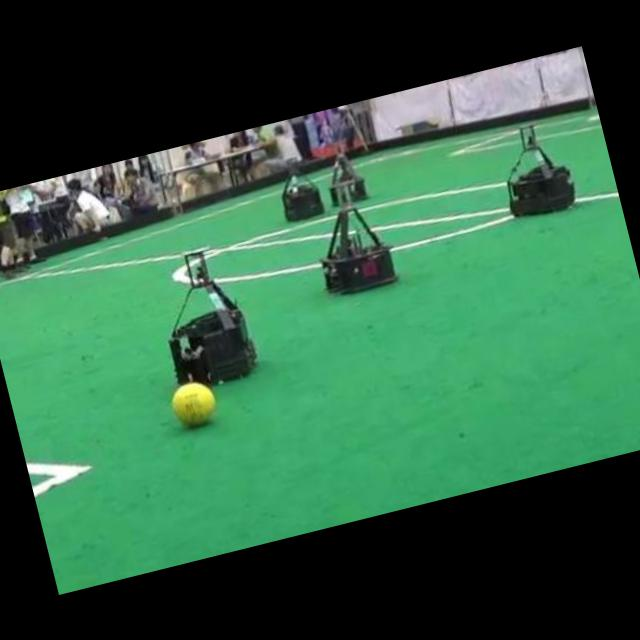ball: (171, 382, 215, 426)
robot: (169, 249, 256, 382), (321, 181, 396, 293), (506, 125, 574, 215), (281, 157, 324, 221), (329, 152, 366, 205)
